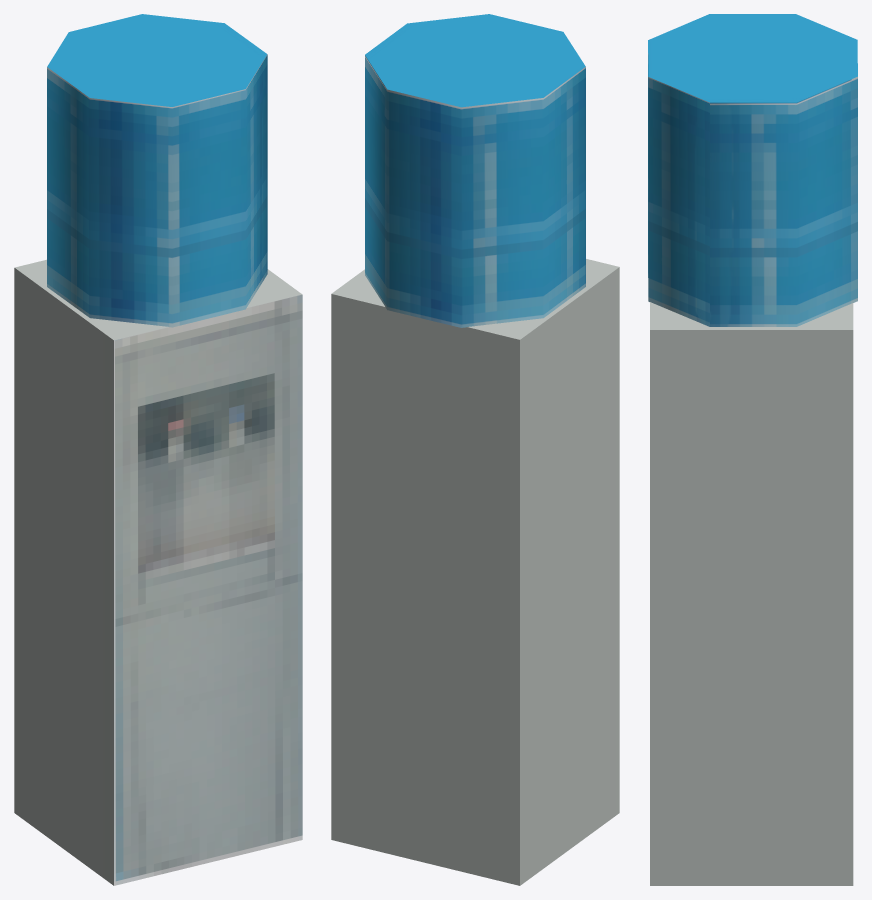
The model's file is SM_WaterDistributor.glb.
3 views of the same model, side by side, from view 1: azimuth 30°, elevation 25°; view 2: azimuth 150°, elevation 25°; view 3: azimuth 270°, elevation 25° (orthographic).
Parts seen in each view (by area): view 1: SM_WaterDistributor; view 2: SM_WaterDistributor; view 3: SM_WaterDistributor.
Part boxes in pixels (x1,y1,x2,y2): SM_WaterDistributor: (14, 14, 302, 885); SM_WaterDistributor: (331, 14, 619, 885); SM_WaterDistributor: (648, 14, 857, 885).
Bounding box in the file's own units: 0.3977 × 1.54 × 0.3762.
1 material, 1 textured.
